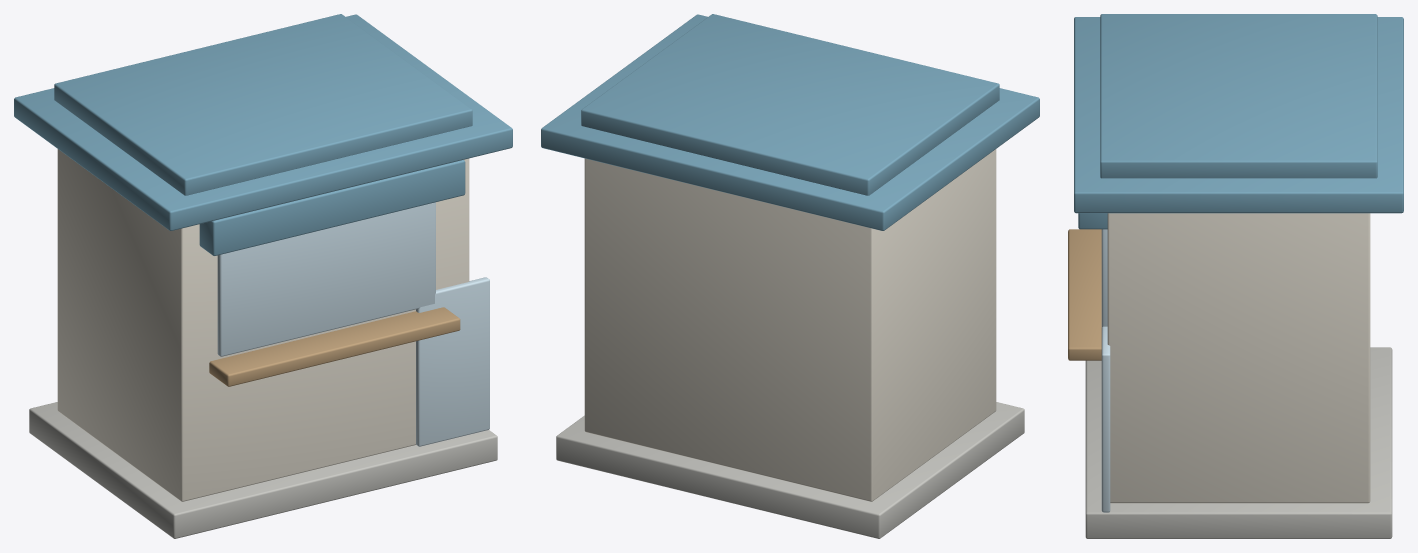
The model's file is th6_kiosk.glb.
3 renders of one model, left to right at view 1: azimuth 30°, elevation 25°; view 2: azimuth 150°, elevation 25°; view 3: azimuth 270°, elevation 25°, orthographic. The views are drawn at different scales.
Parts seen in each view (by area): view 1: Cube.001, Cube.003, Cube.004, Cube.002, Cube, Cube.007, Cube.006, Cube.005; view 2: Cube.001, Cube.003, Cube.002, Cube; view 3: Cube.001, Cube.003, Cube.002, Cube, Cube.005, Cube.007, Cube.004, Cube.006.
Boxes of the visible parts, x1,y1,x2,y2 form: Cube.001: (57, 149, 469, 501); Cube.003: (54, 14, 472, 195); Cube.004: (217, 202, 435, 356); Cube.002: (14, 14, 512, 230); Cube: (29, 402, 497, 538); Cube.007: (416, 277, 489, 446); Cube.006: (199, 160, 465, 255); Cube.005: (209, 307, 460, 386); Cube.001: (584, 149, 996, 501); Cube.003: (581, 14, 999, 195); Cube.002: (541, 14, 1039, 230); Cube: (556, 402, 1024, 538); Cube.001: (1107, 213, 1370, 503); Cube.003: (1100, 14, 1377, 178); Cube.002: (1074, 17, 1403, 213); Cube: (1085, 347, 1392, 538); Cube.005: (1068, 229, 1101, 360); Cube.007: (1101, 326, 1110, 512); Cube.004: (1101, 229, 1107, 327); Cube.006: (1078, 213, 1107, 229).
Size of the model in its own units: 2.86 by 2.79 by 2.3.
